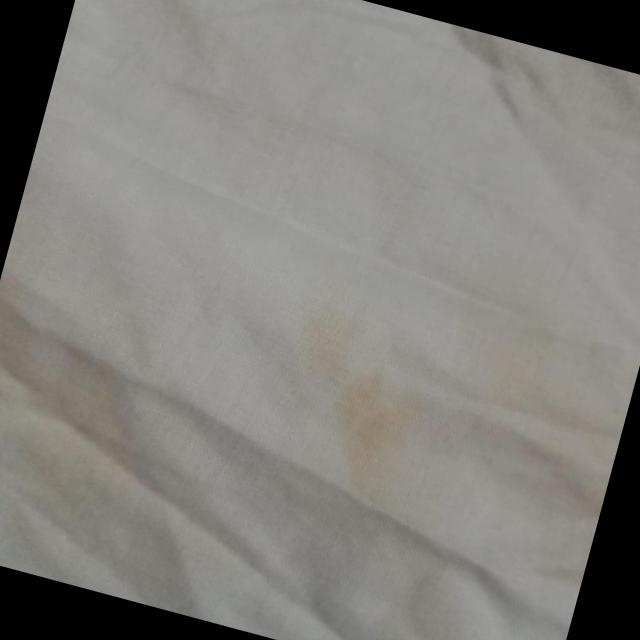stain: (0, 283, 184, 531), (255, 285, 450, 510), (460, 306, 640, 520)
